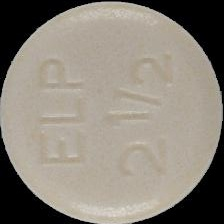16714-442: (0, 0, 224, 224)
